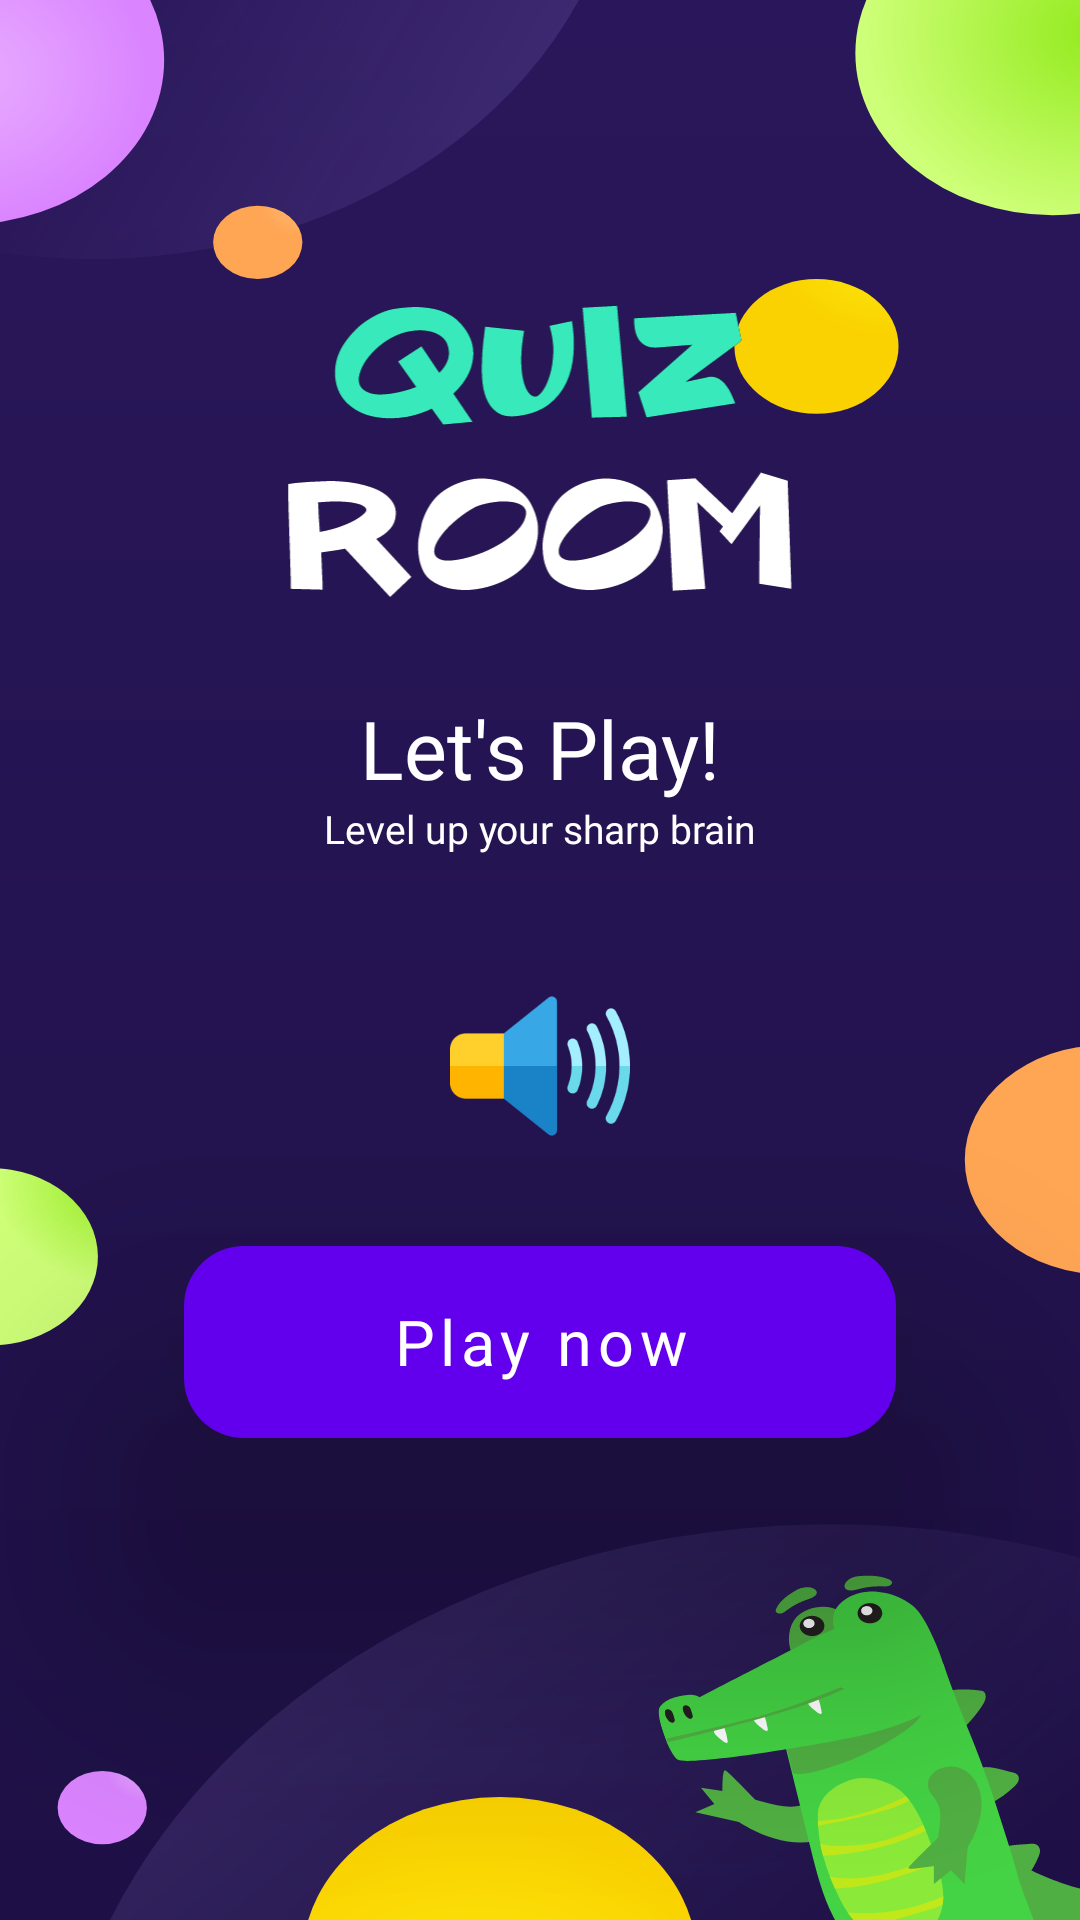

Where to tap for icons on this 1080 x 1920 app screen, as [x,y]:
sound on: [540,1066]
